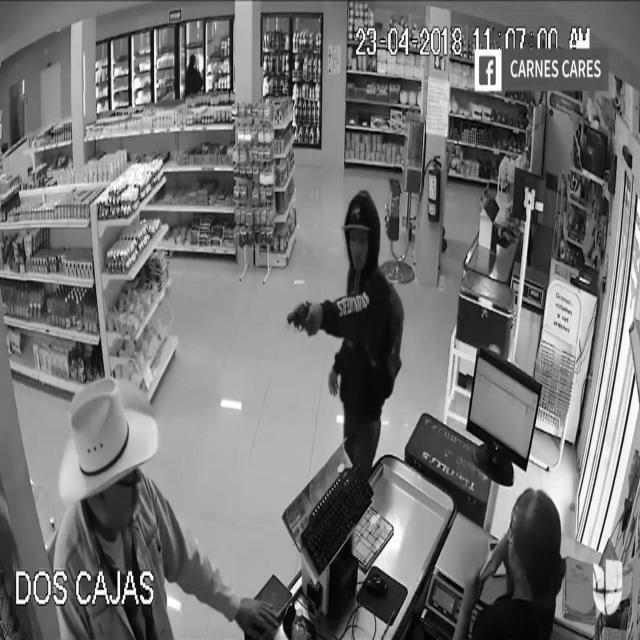Gun: (277, 284, 324, 354)
